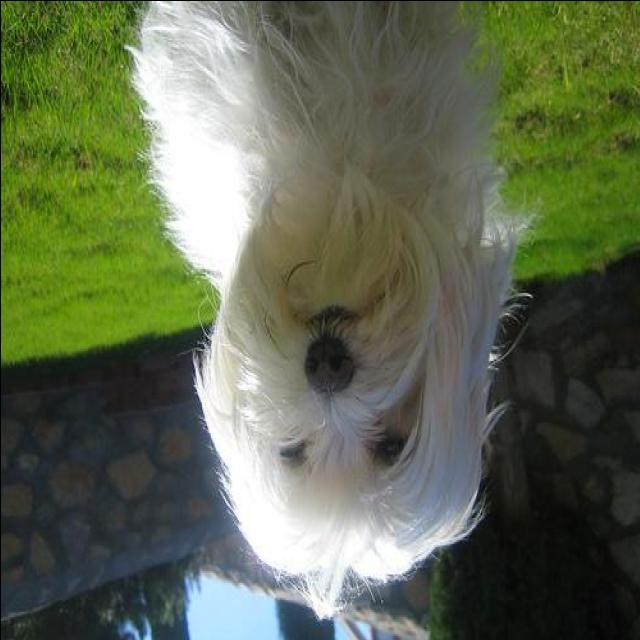maltese_dog: (122, 1, 532, 622)
